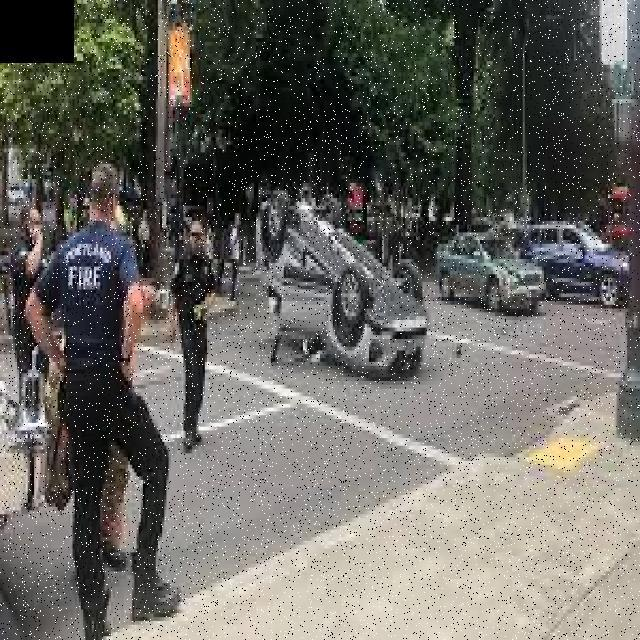severe: (254, 174, 431, 378)
